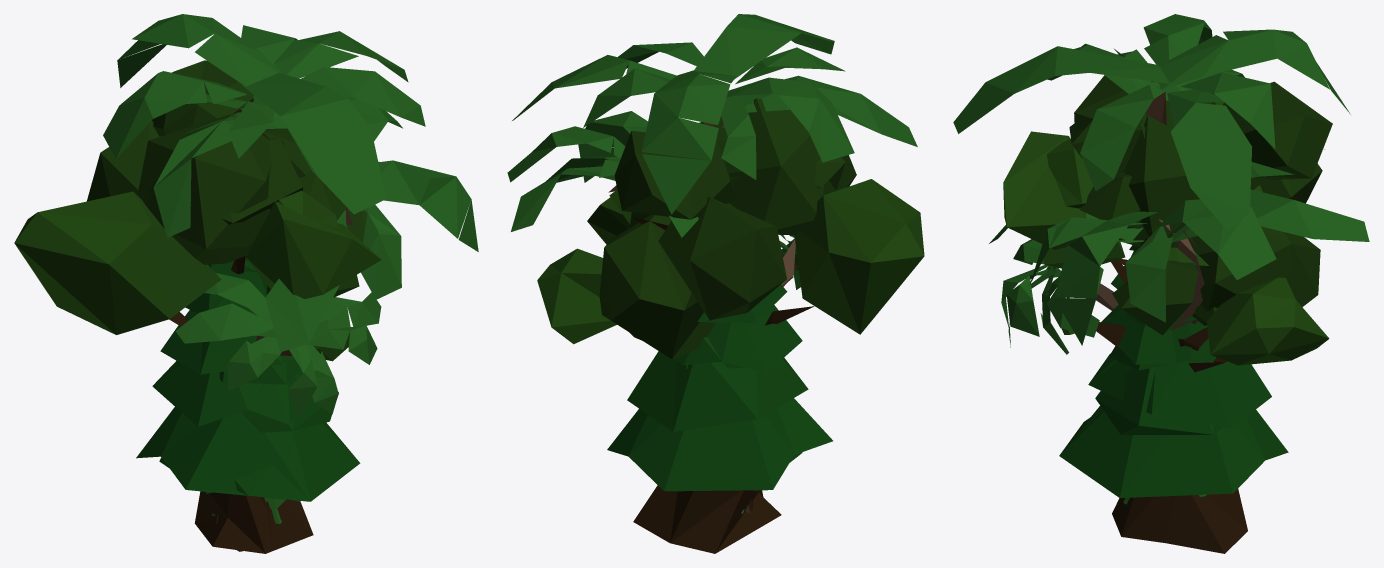
Rendered from nature.glb.
3 renders of one model, left to right at view 1: azimuth 30°, elevation 25°; view 2: azimuth 150°, elevation 25°; view 3: azimuth 270°, elevation 25°, orthographic. The views are drawn at different scales.
Visible parts, largest first — view 1: palm_tree_1_leaves, common_tree_1_leaves, pine_tree_1, common_tree_1_leaves_dark, palm_tree_2_leaves, palm_tree_3_leaves, common_tree_1_trunk, common_tree_3_leaves_dark, pine_tree_2, common_tree_3_leaves, common_tree_2_leaves_dark, common_tree_2_leaves; view 2: palm_tree_1_leaves, pine_tree_1, common_tree_1_leaves_dark, common_tree_1_leaves, common_tree_2_leaves_dark, common_tree_1_trunk, common_tree_3_leaves_dark, palm_tree_2_leaves, common_tree_2_leaves; view 3: palm_tree_1_leaves, pine_tree_1, palm_tree_2_leaves, common_tree_3_leaves_dark, common_tree_2_leaves, common_tree_1_leaves_dark, common_tree_2_leaves_dark, common_tree_1_trunk, common_tree_1_leaves, pine_tree_2, palm_tree_3_leaves, common_tree_3_leaves (+2 smaller).
Boxes of the visible parts, x1,y1,x2,y2 form: palm_tree_1_leaves: (103,14,425,237); common_tree_1_leaves: (14,191,381,334); pine_tree_1: (136,260,360,523); common_tree_1_leaves_dark: (86,114,311,264); palm_tree_2_leaves: (253,95,478,351); palm_tree_3_leaves: (175,273,381,420); common_tree_1_trunk: (169,312,313,553); common_tree_3_leaves_dark: (148,60,367,242); pine_tree_2: (159,257,338,501); common_tree_3_leaves: (277,190,337,227); common_tree_2_leaves_dark: (299,170,346,220); common_tree_2_leaves: (266,275,359,361); palm_tree_1_leaves: (512,14,917,214); pine_tree_1: (607,284,832,512); common_tree_1_leaves_dark: (629,98,856,320); common_tree_1_leaves: (794,179,924,334); common_tree_2_leaves_dark: (599,214,715,359); common_tree_1_trunk: (633,306,814,553); common_tree_3_leaves_dark: (587,130,845,244); palm_tree_2_leaves: (507,111,698,237); common_tree_2_leaves: (537,248,616,344); palm_tree_1_leaves: (953,14,1350,230); pine_tree_1: (1059,245,1288,497); palm_tree_2_leaves: (989,149,1369,345); common_tree_3_leaves_dark: (1069,81,1332,335); common_tree_2_leaves: (1044,241,1329,365); common_tree_1_leaves_dark: (1074,75,1322,255); common_tree_2_leaves_dark: (1080,172,1320,325); common_tree_1_trunk: (1111,260,1247,553); common_tree_1_leaves: (1003,93,1223,277); pine_tree_2: (1095,250,1222,434); palm_tree_3_leaves: (1001,239,1144,354); common_tree_3_leaves: (1047,138,1262,322).
Size of the model in its own units: 6.13 by 7.01 by 5.36.
